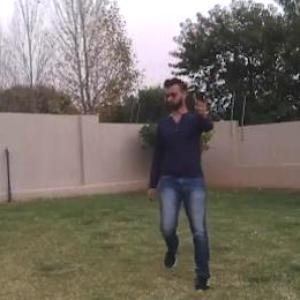takeoff-hand: (188, 88, 219, 121)
